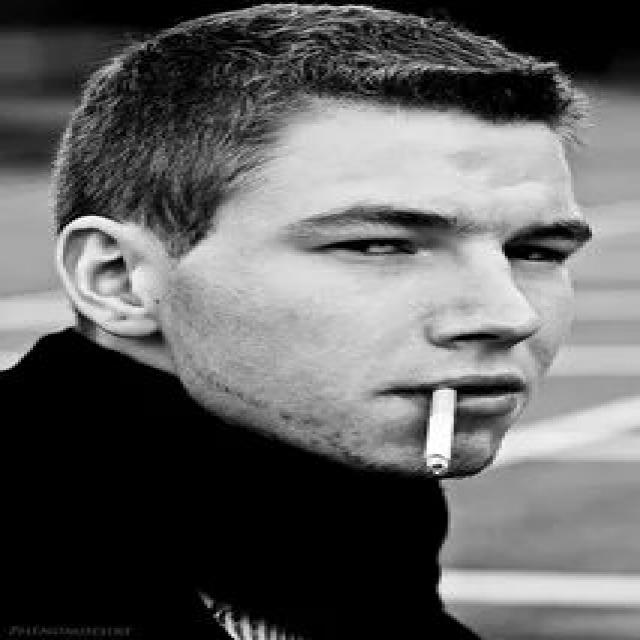smoke: (414, 384, 468, 488)
